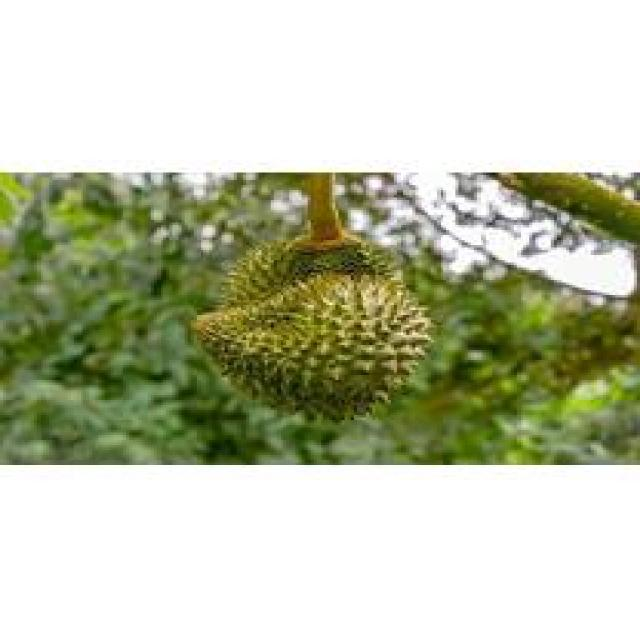fruit: (188, 232, 446, 438)
